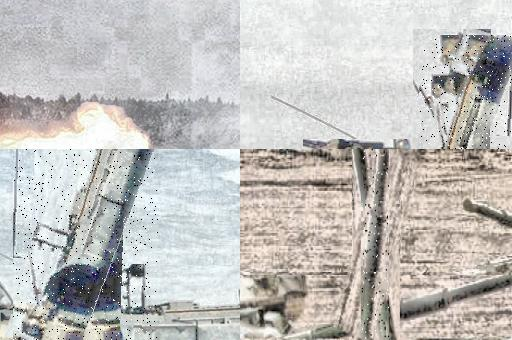tanks: (14, 150, 154, 340), (442, 37, 512, 150), (363, 150, 390, 340), (446, 256, 512, 320), (466, 201, 512, 227)
